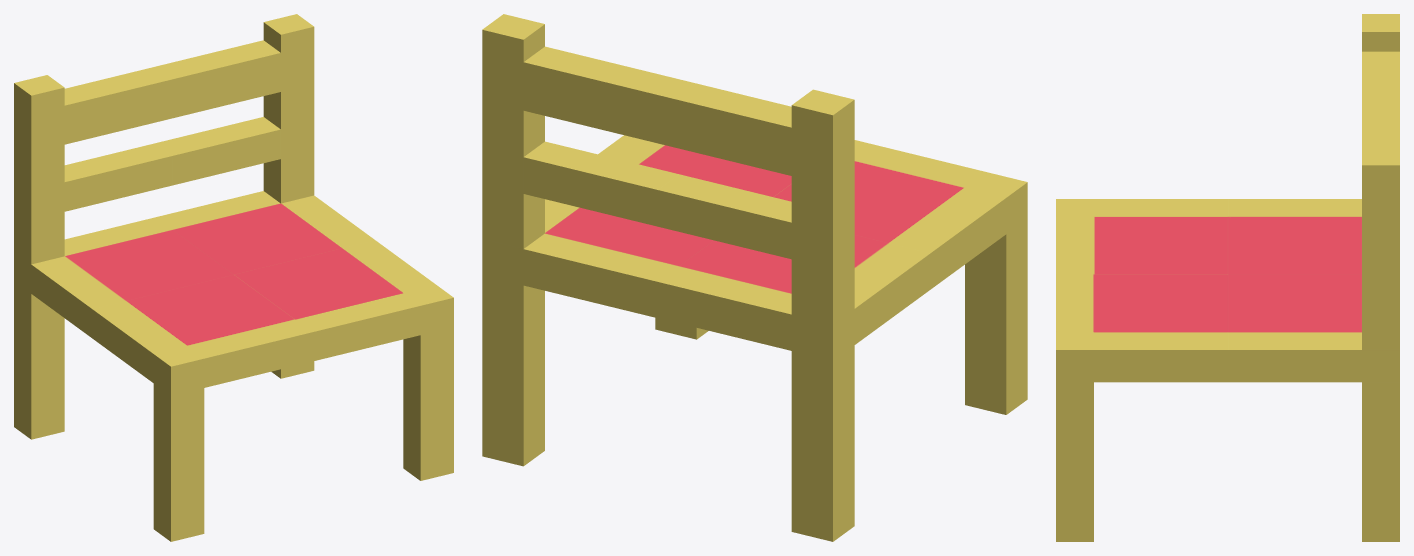
Rendered from chair.glb.
3 renders of one model, left to right at view 1: azimuth 30°, elevation 25°; view 2: azimuth 150°, elevation 25°; view 3: azimuth 270°, elevation 25°, orthographic. The views are drawn at different scales.
Visible parts, largest first — view 1: chair; view 2: chair; view 3: chair.
Boxes of the visible parts, <box> form: chair: <box>14,14,453,541</box>; chair: <box>482,14,1027,541</box>; chair: <box>1056,14,1399,541</box>.
Size of the model in its own units: 0.8339 by 0.9689 by 0.8015.
1 material, 1 textured.
